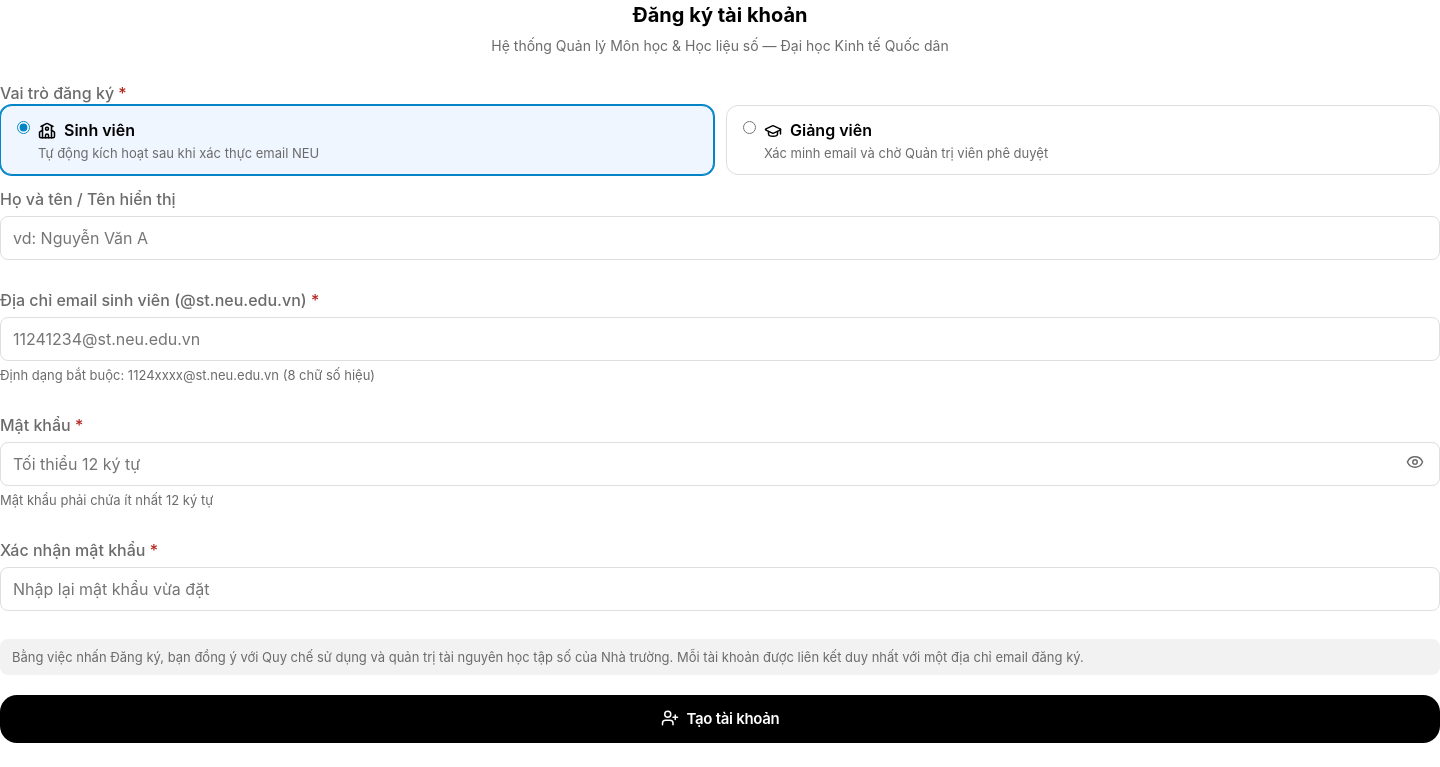
T06 / B04 — Auth UI: Registration, Verification & Role State › T06 regression boundaries › registration displays failure without success or role grant ({"name":"ApiError","status":429,"code":"rate_limited","requestId":"","correlationId":""})
In the field labelled "Địa chỉ email sinh viên (@st.neu.edu.vn) *": (720, 339) [0,317,1439,361], type "11240001@st.neu.edu.vn"
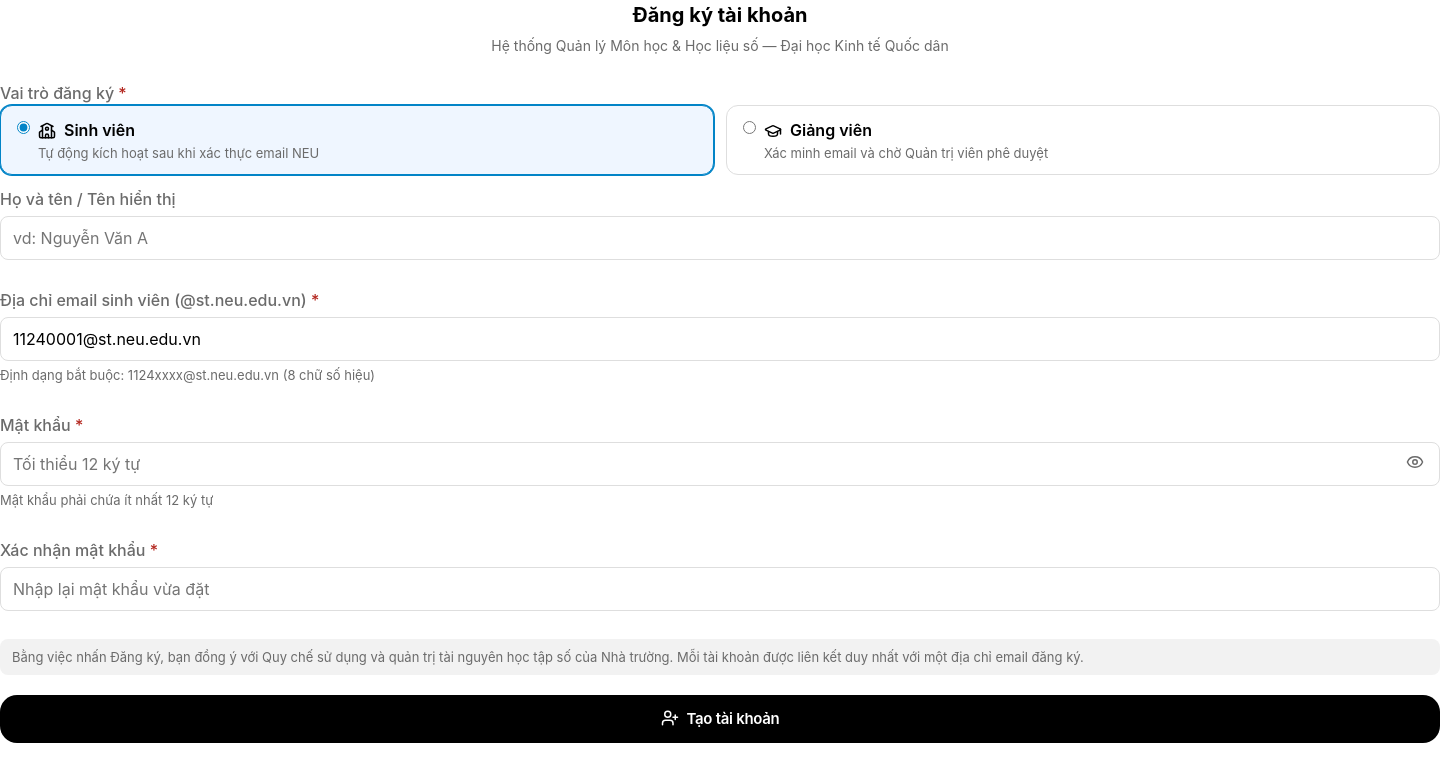
In the password field labelled "Mật khẩu *": (720, 464) [0,442,1439,486], type "Password123!"
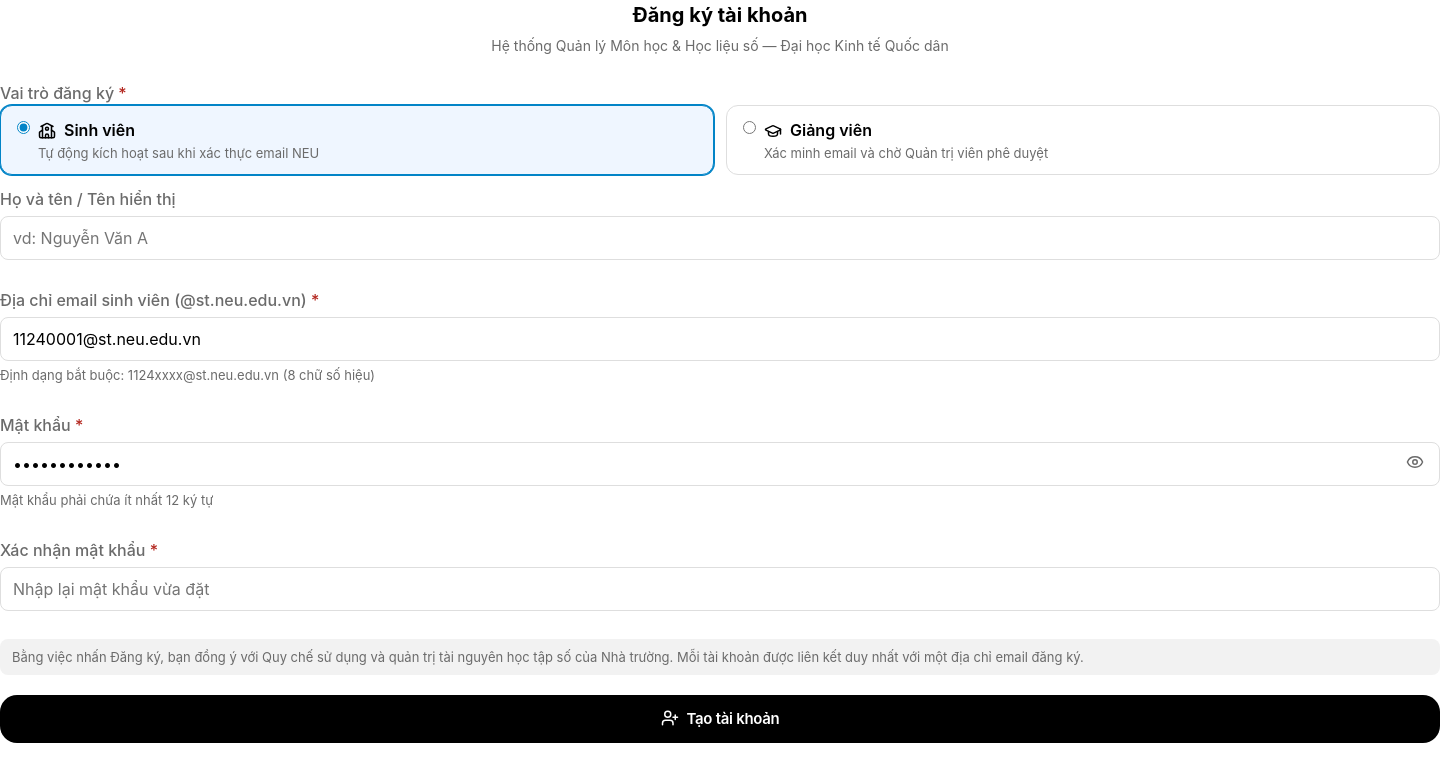
In the password field labelled "Xác nhận mật khẩu *": (720, 589) [0,567,1439,611], type "Password123!"
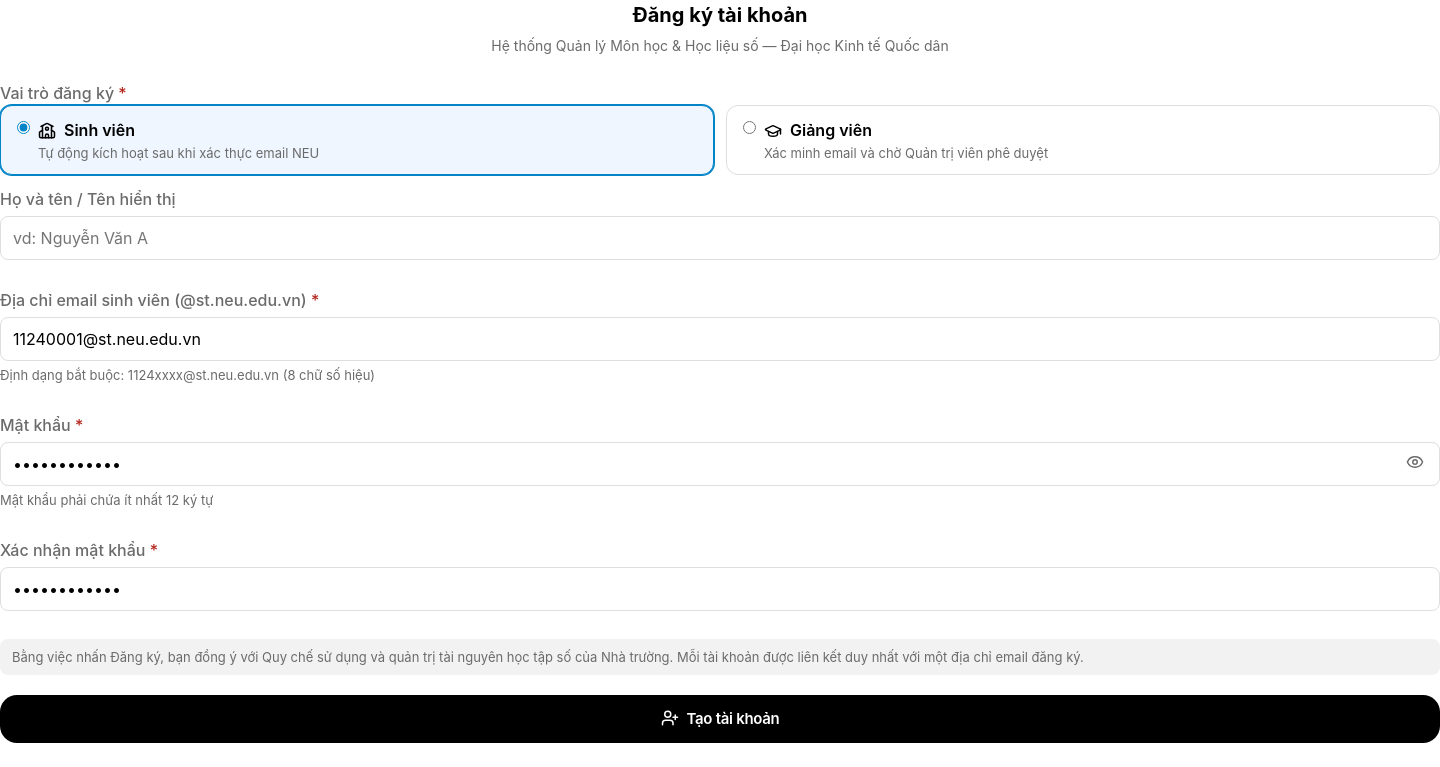
Click the button "Tạo tài khoản": (720, 719) [0,695,1439,743]
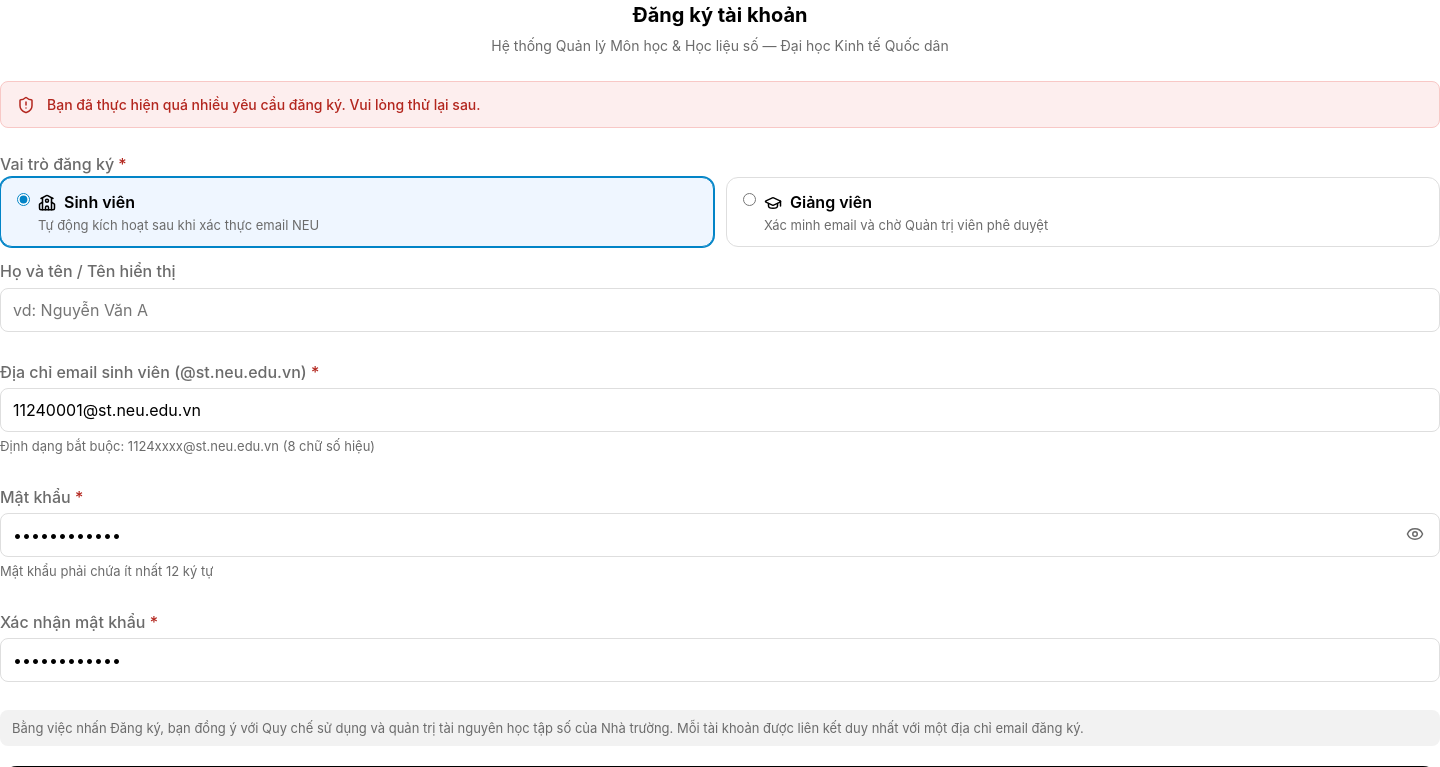
Now the message shows "quá nhiều yêu cầu đăng ký", box [47,96,480,113]
